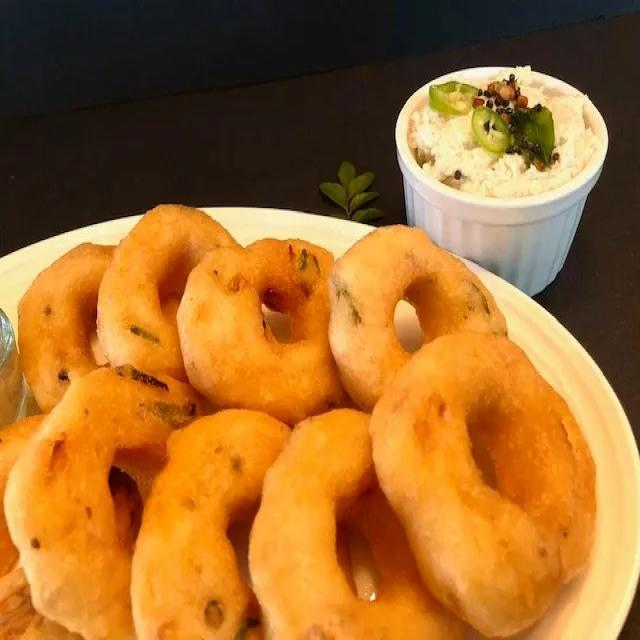medu vadai: (371, 326, 593, 633), (371, 332, 595, 635), (3, 364, 213, 636), (248, 410, 469, 638), (129, 407, 293, 637), (330, 224, 510, 416), (174, 239, 347, 426), (94, 202, 241, 388), (15, 243, 118, 414)
